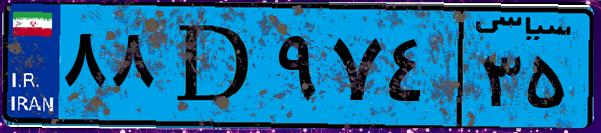3: (475, 38, 525, 113)
4: (385, 28, 445, 110)
5: (525, 38, 570, 115)
7: (330, 28, 385, 110)
8: (57, 26, 110, 100), (110, 28, 158, 98)
9: (270, 28, 330, 110)
D: (158, 12, 270, 120)
